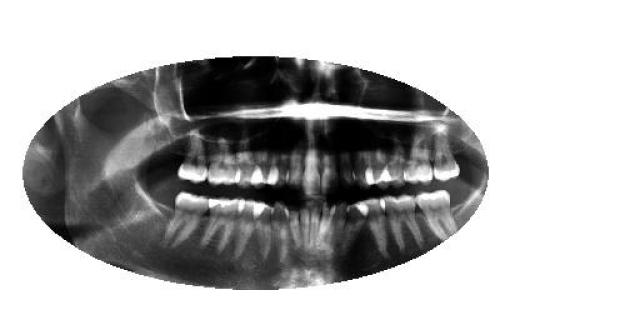Fillings: (200, 195, 240, 254)
